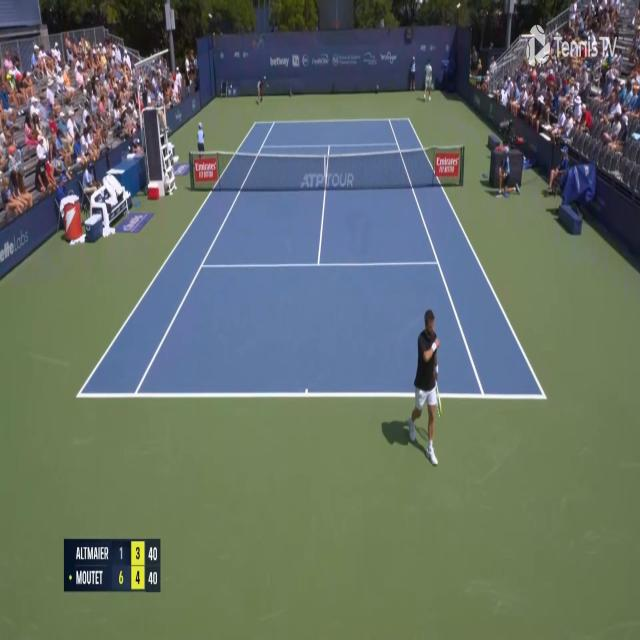tennis-player: (406, 296, 446, 472), (421, 54, 436, 104)
